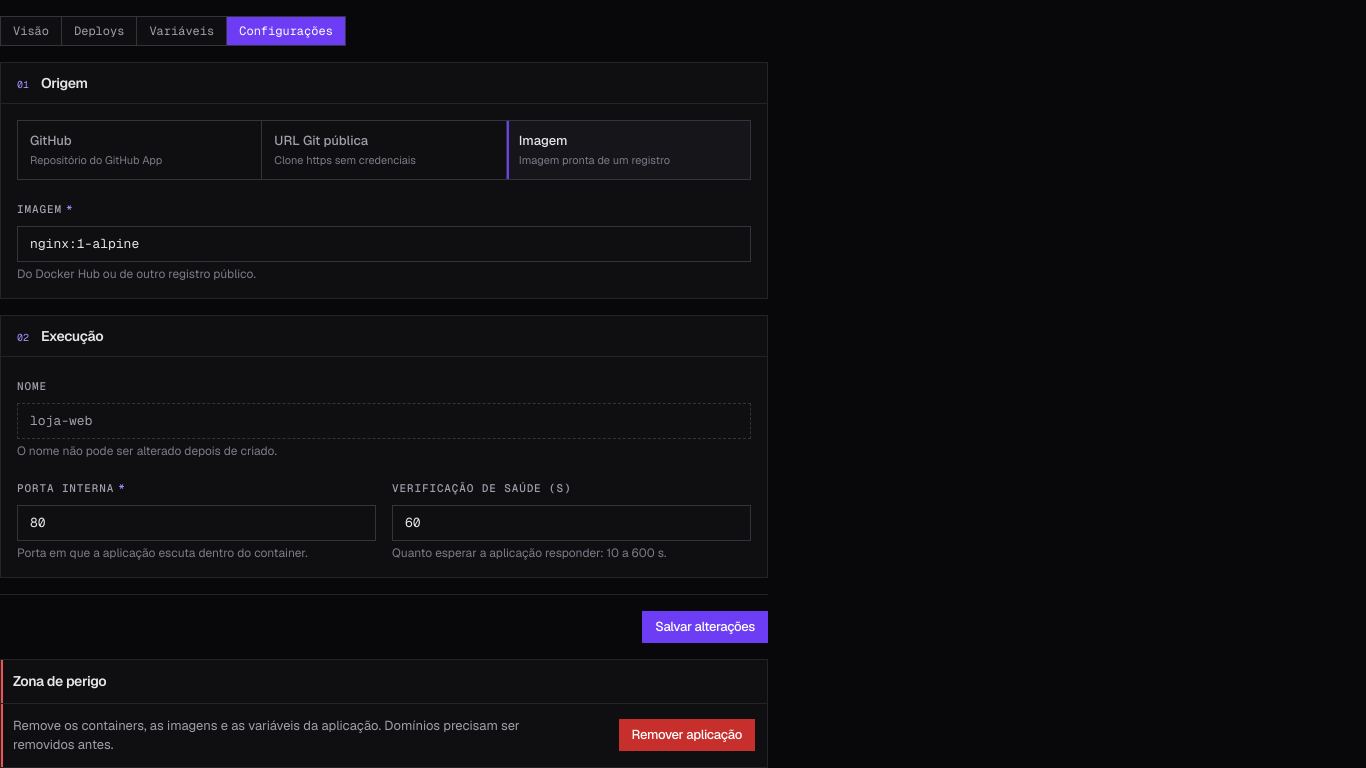
it: Aplicação › remover aplicação com domínios explica o motivo
(page scrolled)
Click the button "Remover aplicação".
click(687, 735)  # box [619,719,755,751]
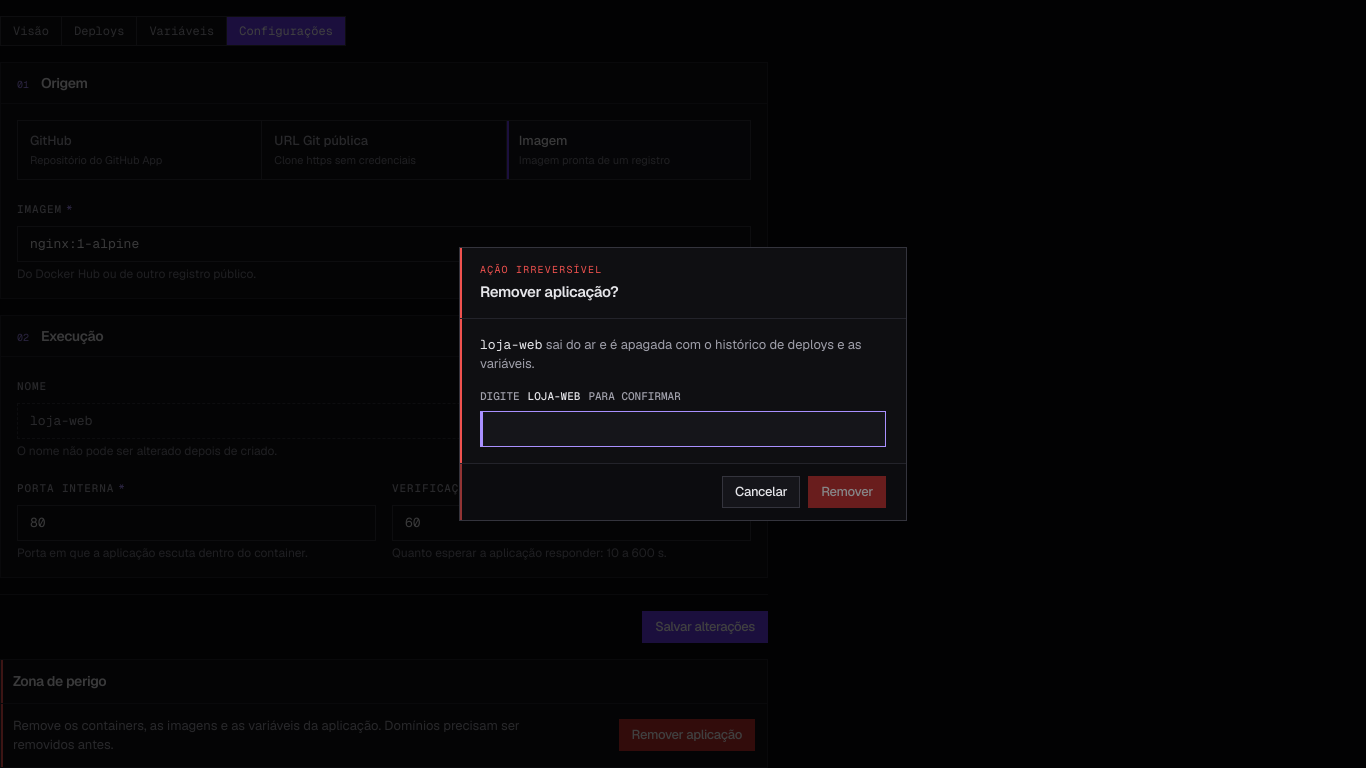
expect the button "Remover" is disabled: met, box [808,476,886,508]
Type "loja-web" into the field labelled "Digite loja-web para confirmar".
click(683, 429); type("loja-web")  # box [480,411,886,447]
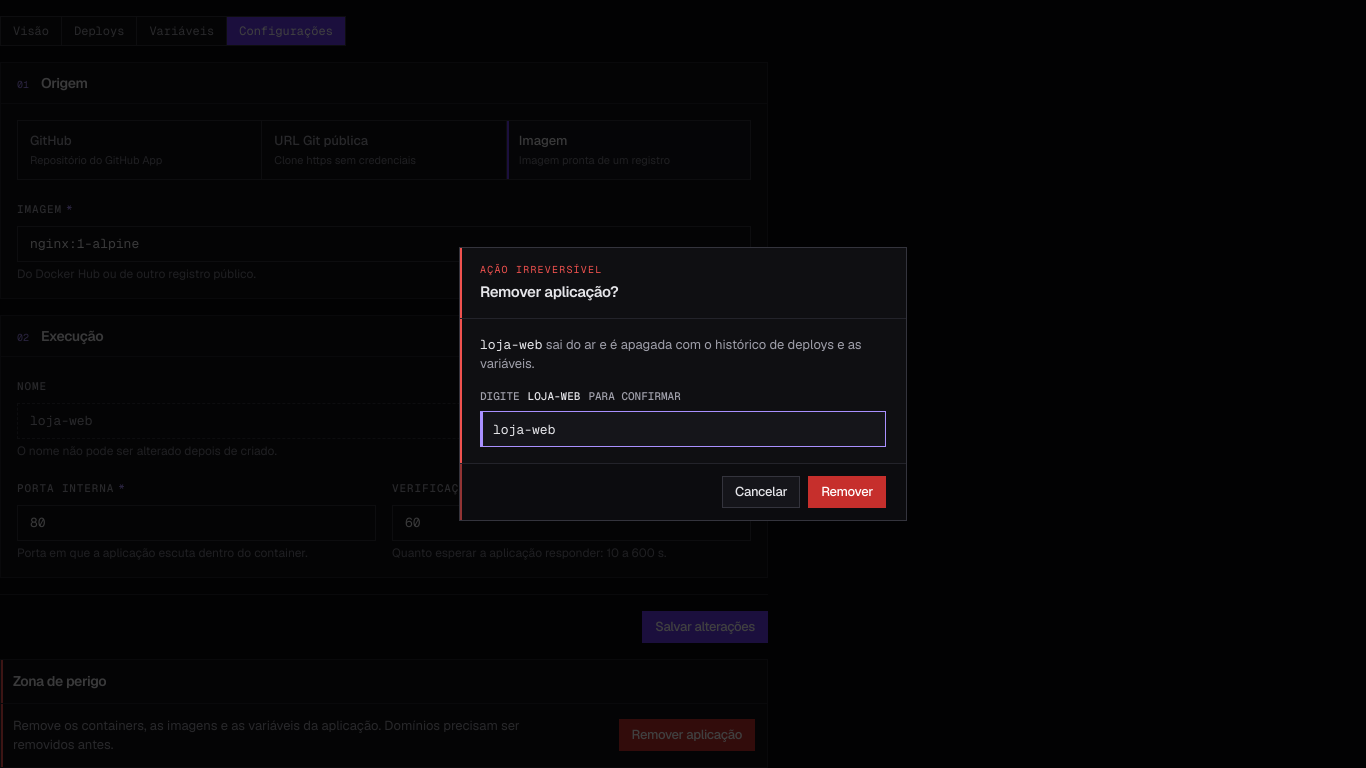
expect the button "Remover" is enabled: met
Click the button "Remover".
click(847, 492)  # box [808,476,886,508]
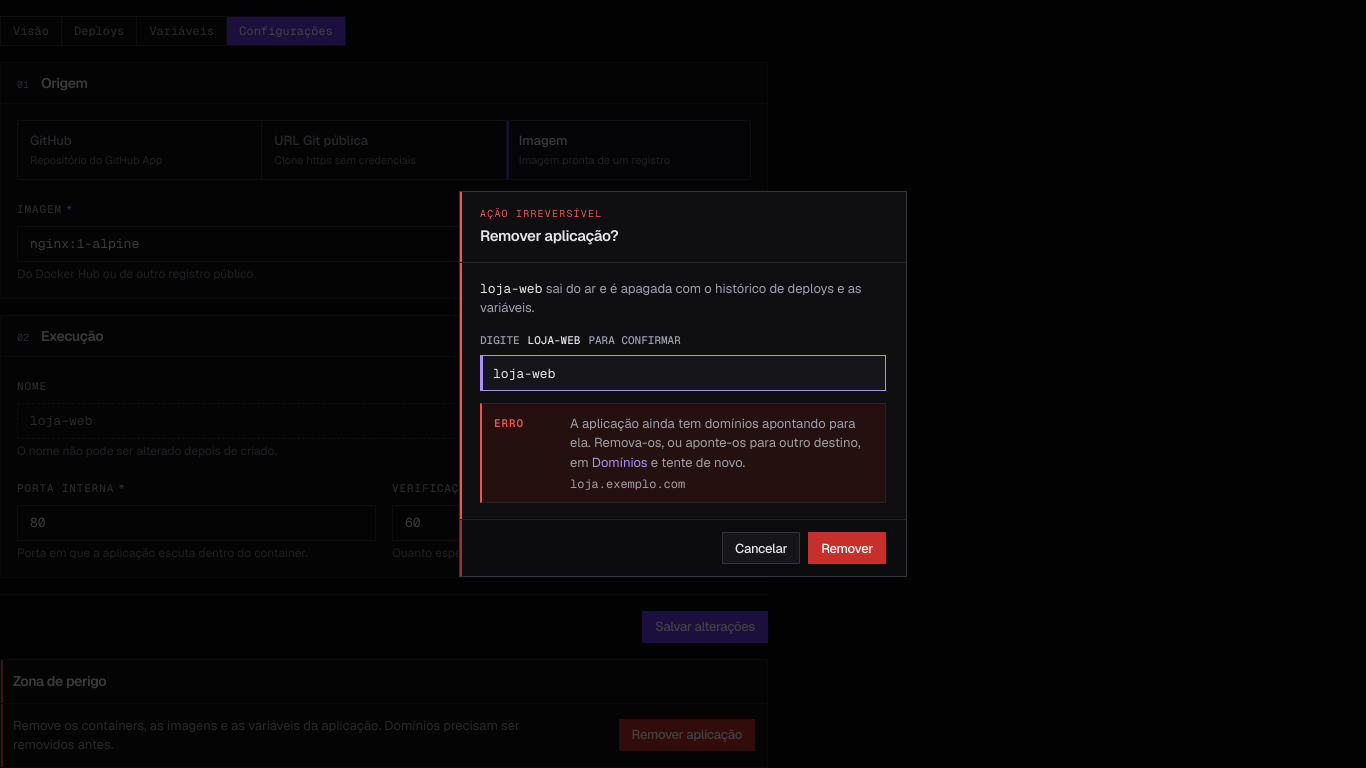
expect the text "ainda tem domínios" is shown: met, box [570,415,861,471]
